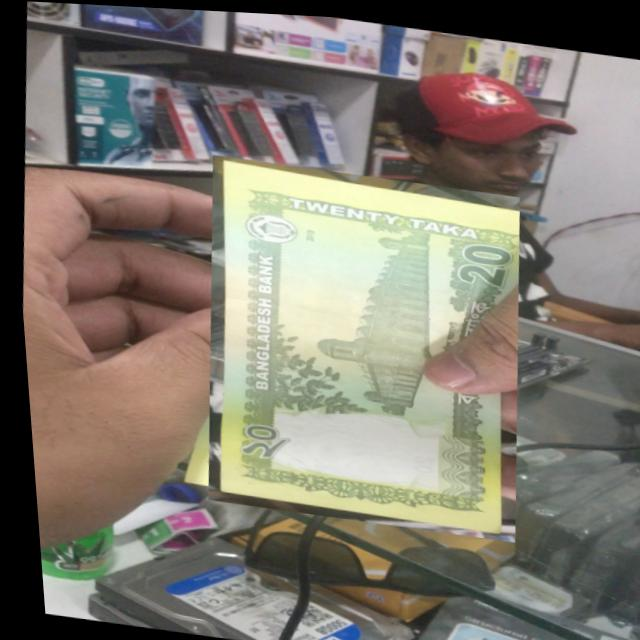Taka: (180, 150, 537, 538)
